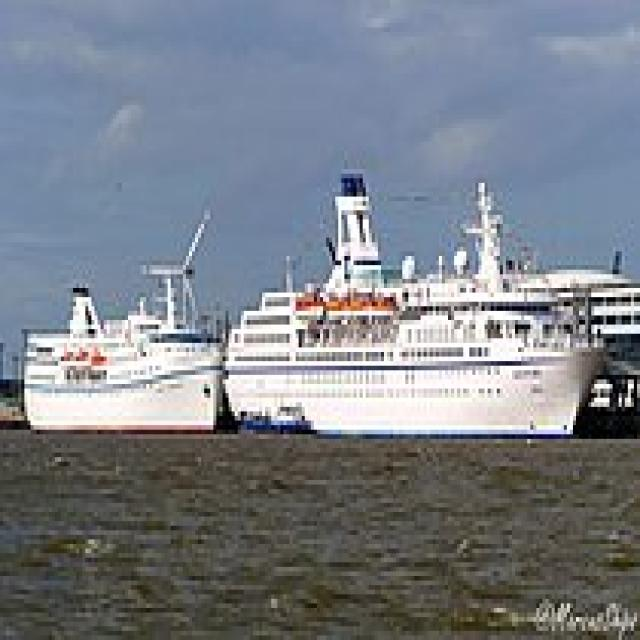Cruise: (216, 160, 604, 439), (15, 247, 232, 434)
